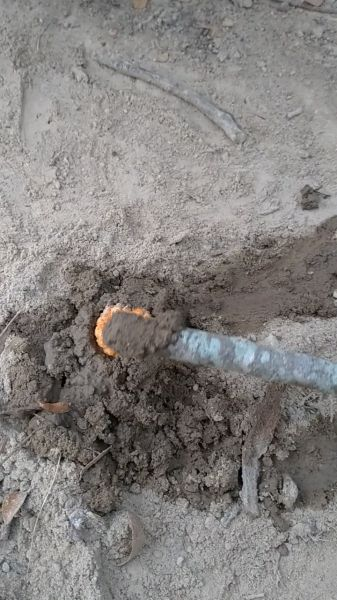eggs: (90, 302, 161, 358)
